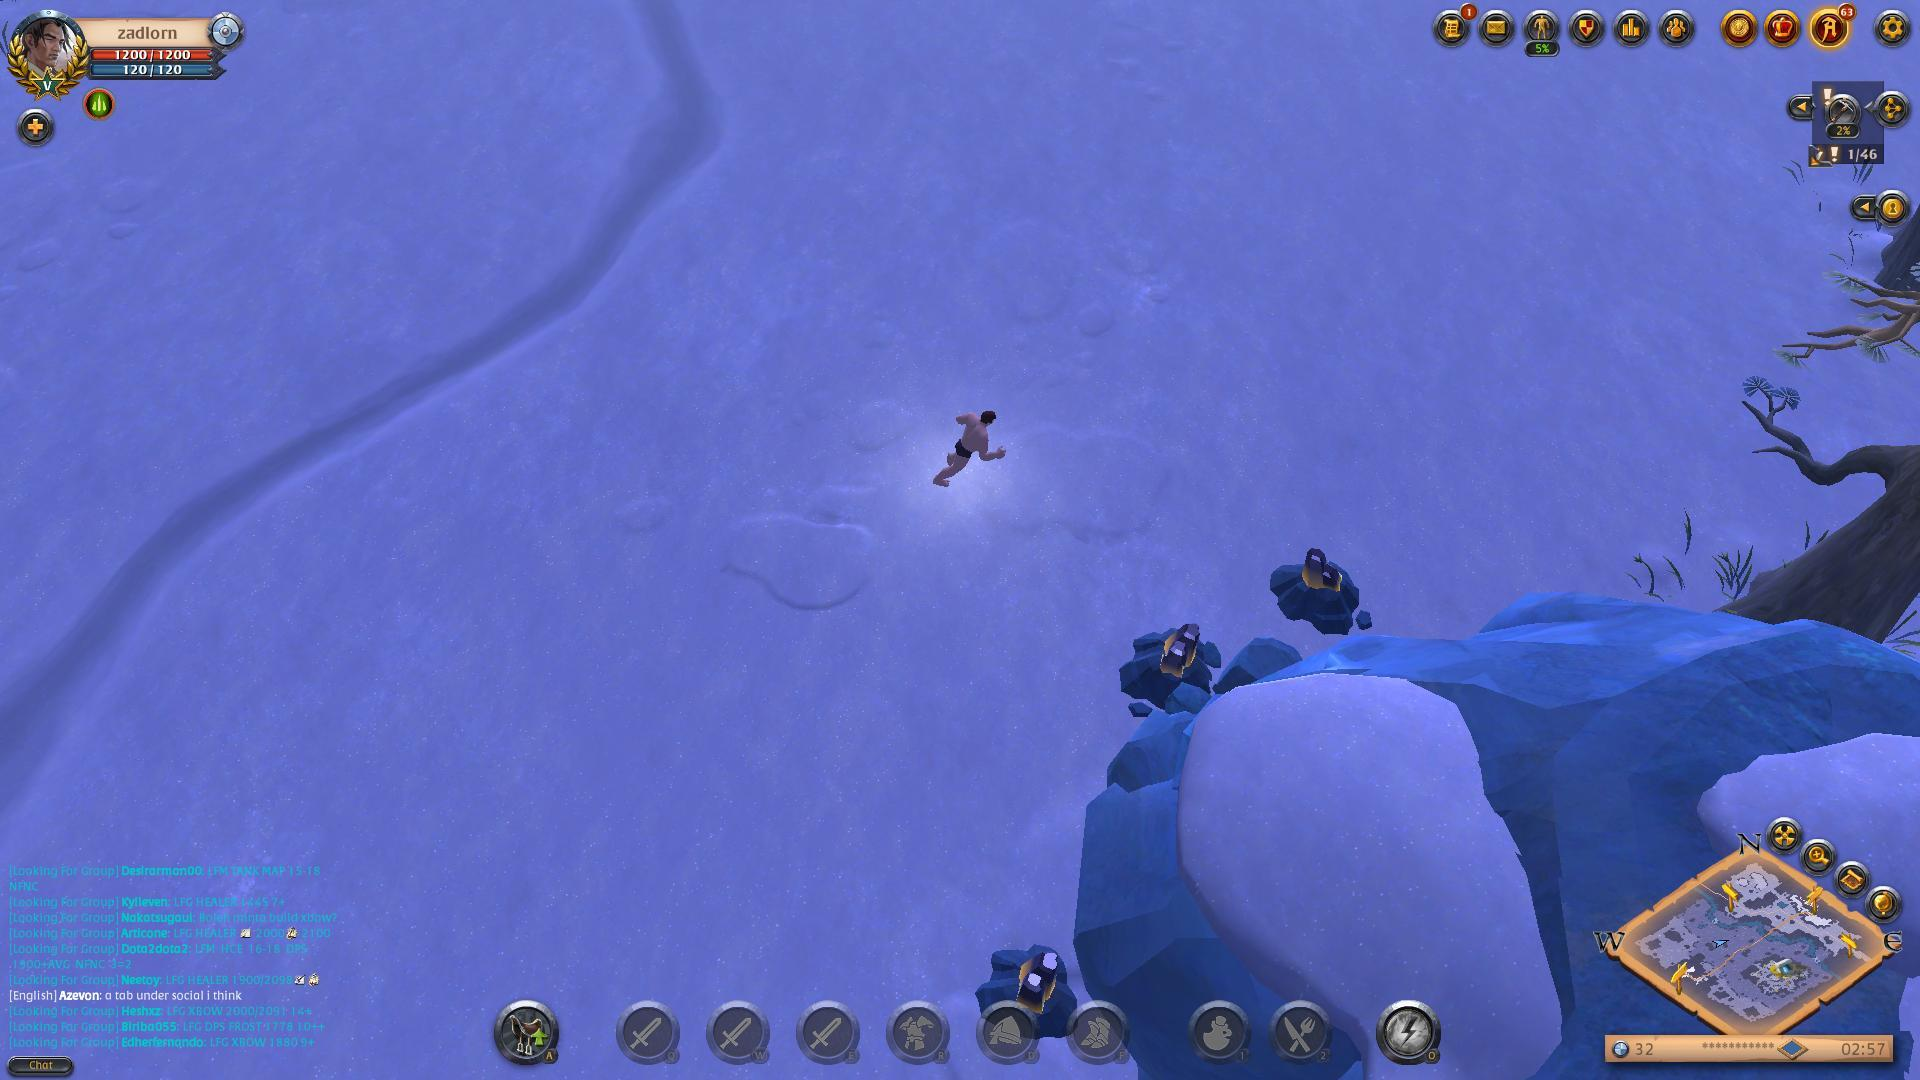copper_ore: (1257, 541, 1395, 640), (1113, 607, 1230, 719)
